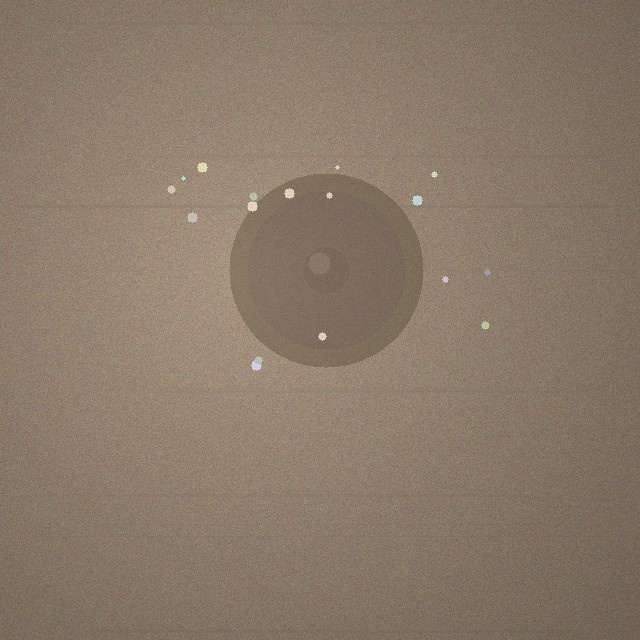overburn: (229, 173, 423, 367)
